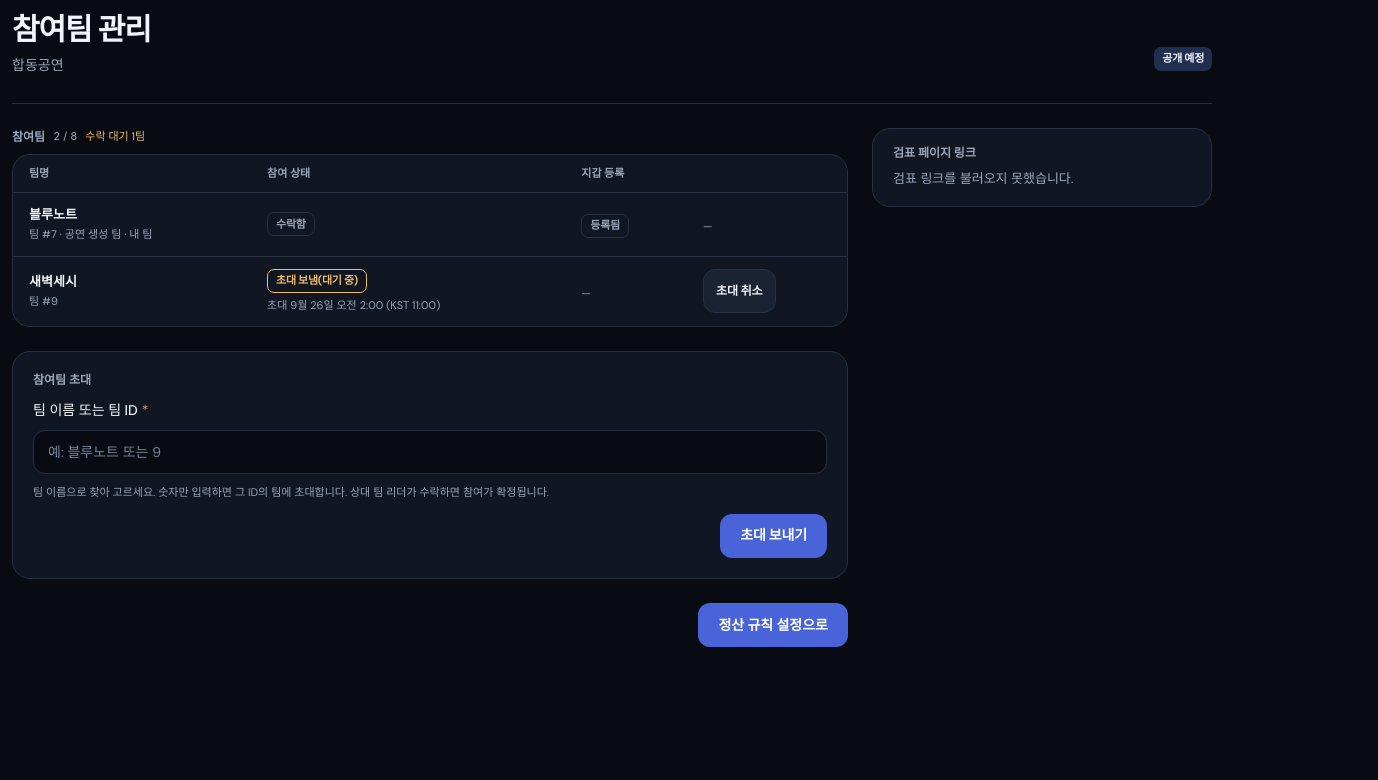
it: 참여팀 초대 콤보박스 › 이름만 치고 고르지 않으면 초대하지 않고 안내한다
The image size is (1378, 780).
Type "블루" into the dropdown.
click(430, 452); type("블루")  # box 33,430 -> 827,474
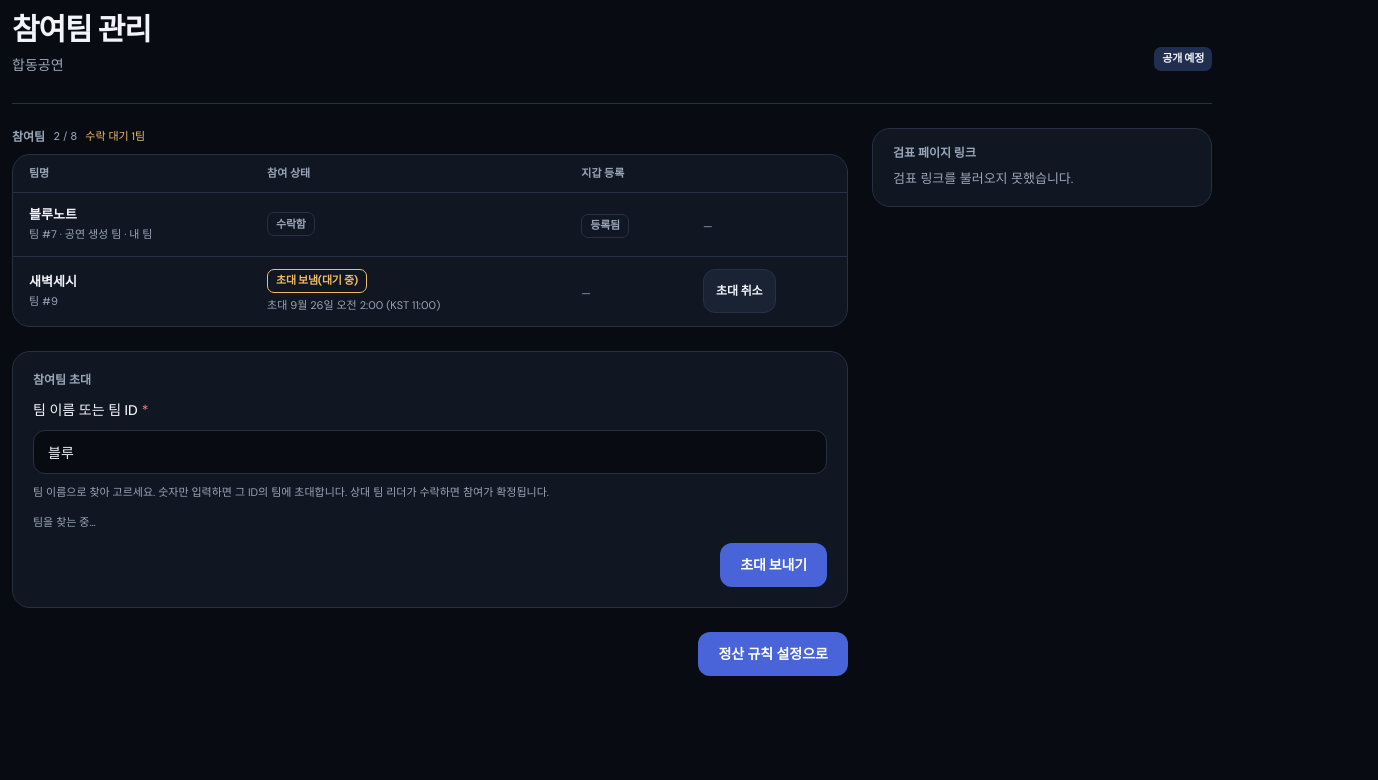
Click the button "초대 보내기".
click(774, 565)  # box 720,543 -> 827,587
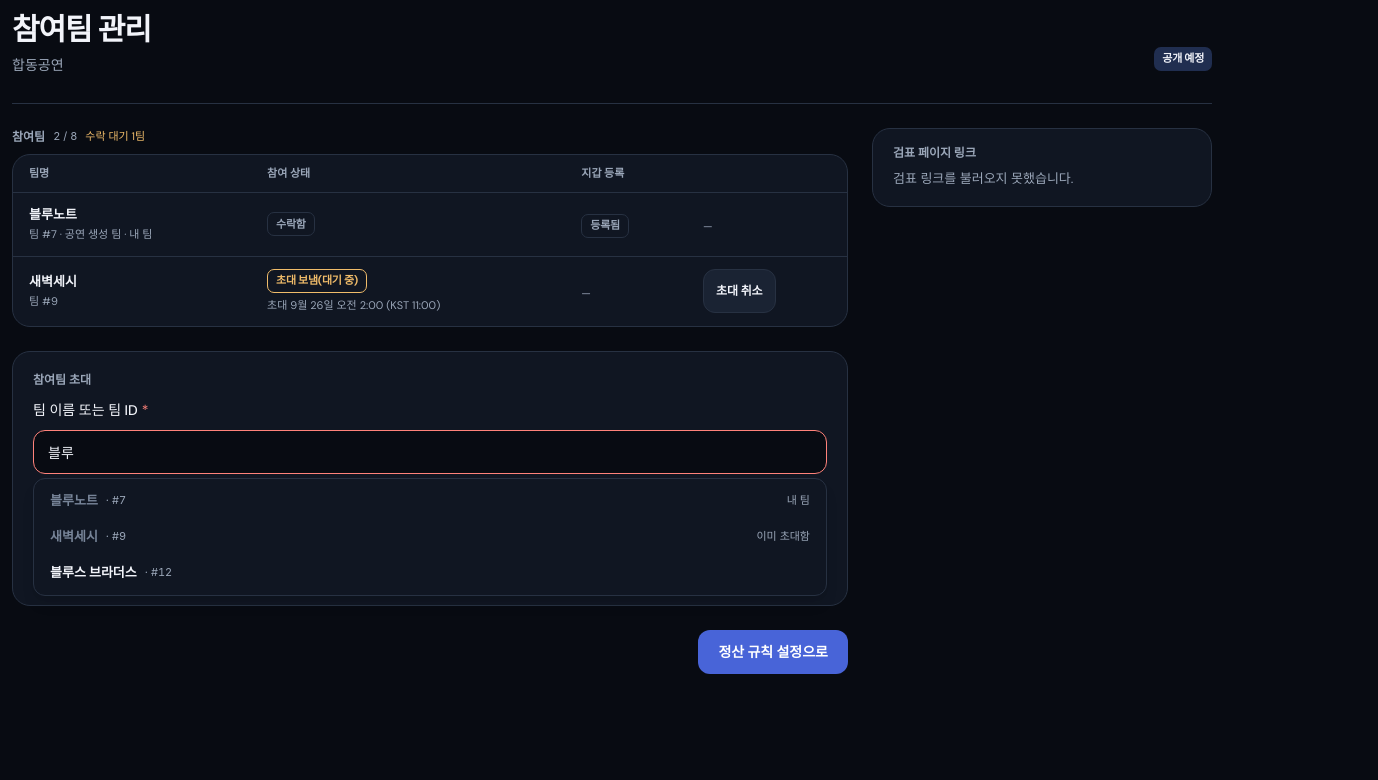
Now the text "목록에서 팀을 고르거나 팀 ID(숫자)를 입력해 주세요." is shown, box 33,485 -> 273,499
